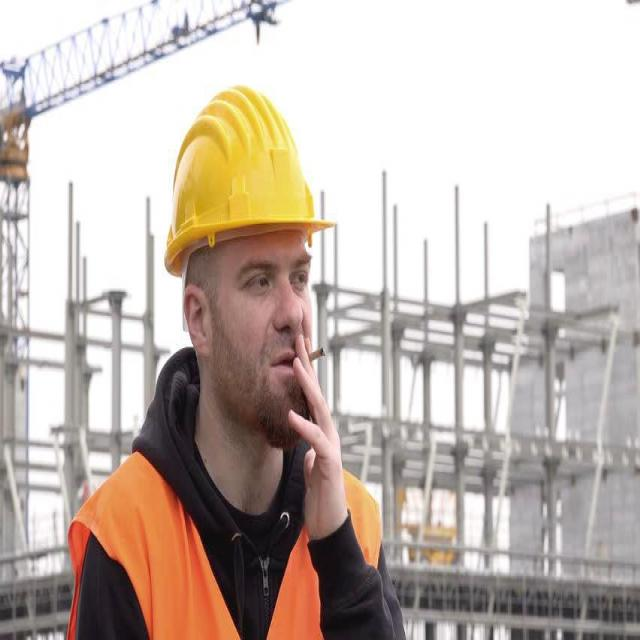cigarette: (297, 332, 334, 395)
